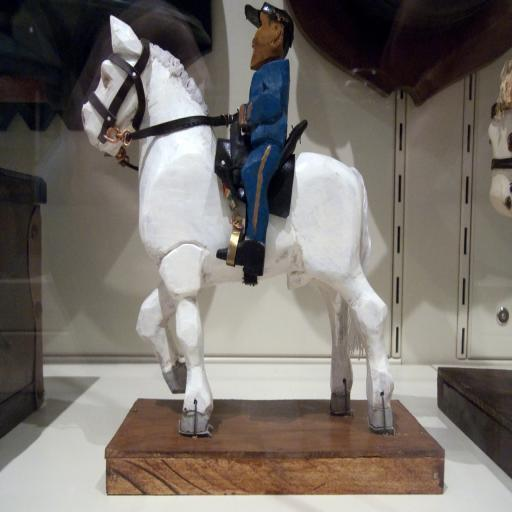horse: (74, 12, 392, 432)
